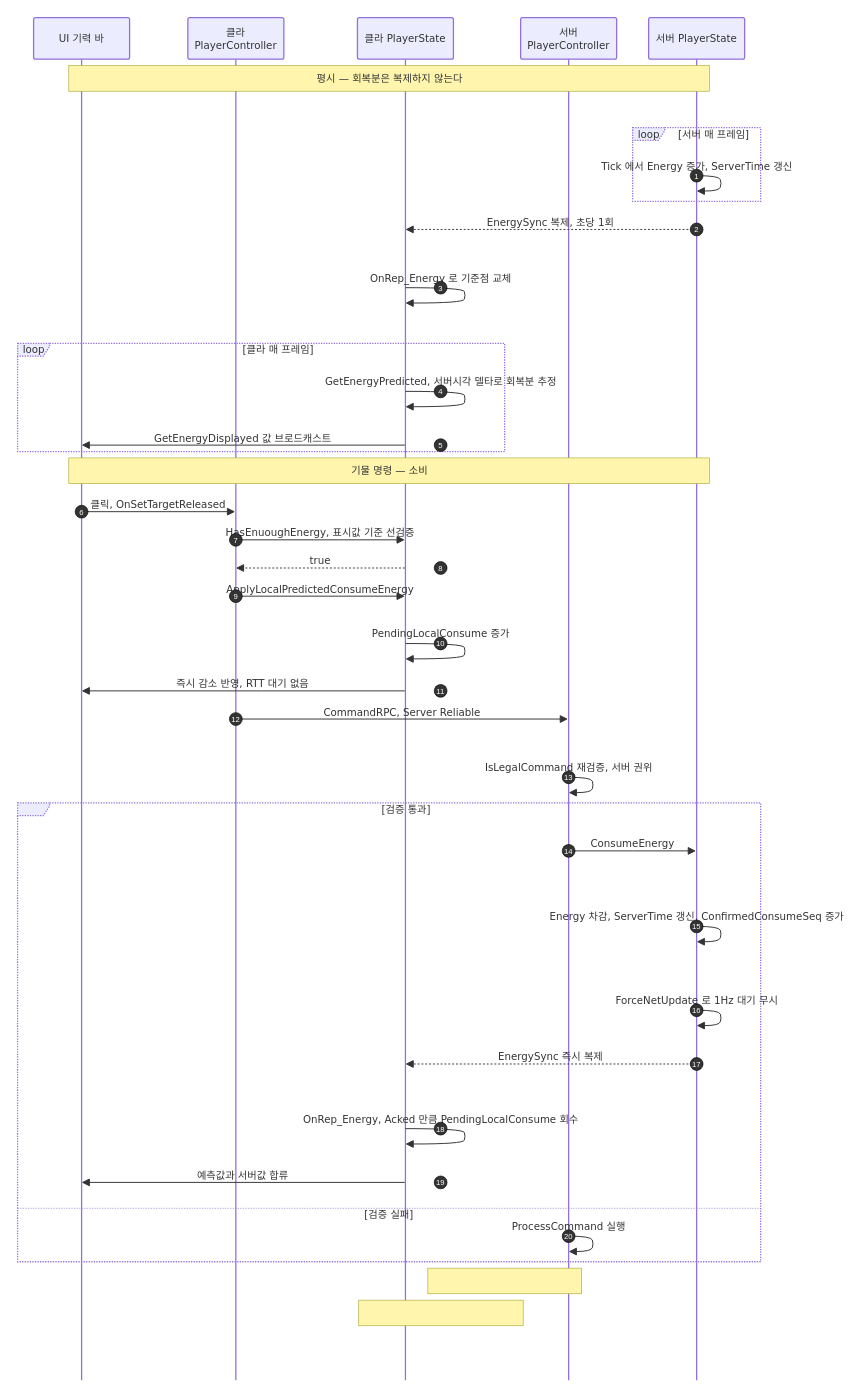
Image size: 854x1391. Some labels were removed from this diagram. Here are the shapes that lost their labels. From the top down, the centre of each, then its label:
At (389,1032): "alt".
At (504,1281): "ConsumeEnergy 미호출, Seq 그대로".
At (440,1313): "PendingLocalConsume 가 회수되지 않고 남음".
